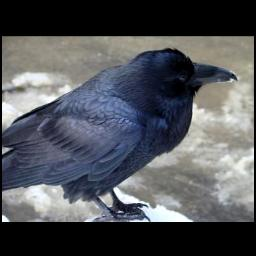Crow: (4, 47, 238, 221)
